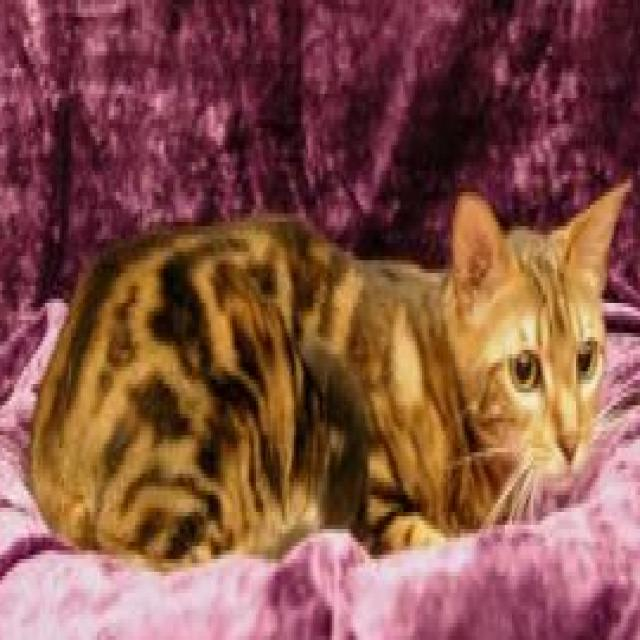Bengal: (24, 177, 639, 559)
